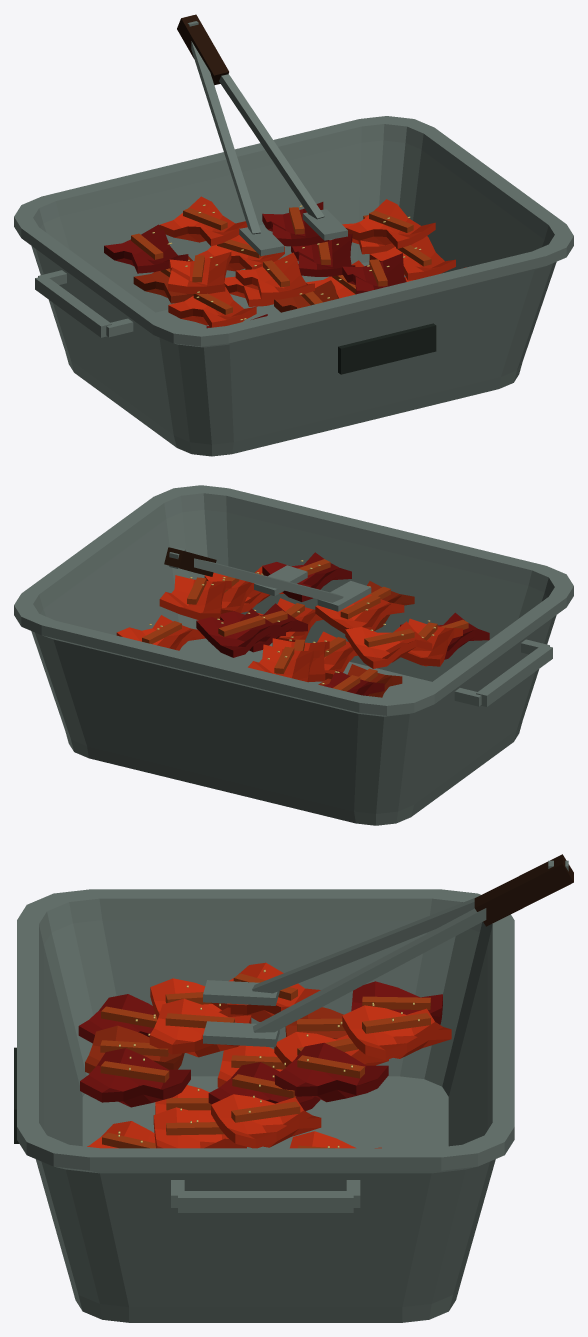
File: 03_Kimchi_Pan.fbx
The picture shows the model from 3 angles, top to bottom: view 1: azimuth 30°, elevation 25°; view 2: azimuth 150°, elevation 25°; view 3: azimuth 270°, elevation 25°; orthographic projection. The views are drawn at different scales.
Visible parts, largest first — view 1: Container.002, Food.002, Utensil.002; view 2: Container.002, Food.002, Utensil.002; view 3: Container.002, Food.002, Utensil.002.
Boxes of the visible parts, x1,y1,x2,y2 form: Container.002: (14,116,573,456); Food.002: (104,196,466,328); Utensil.002: (177,14,347,255); Container.002: (14,485,573,825); Food.002: (116,552,489,697); Utensil.002: (164,547,371,611); Container.002: (14,889,514,1322); Food.002: (78,962,451,1148); Utensil.002: (203,854,573,1047).
Bounding box in the file's own units: 71.1 × 40.55 × 57.38.
2 materials, 2 textured.
